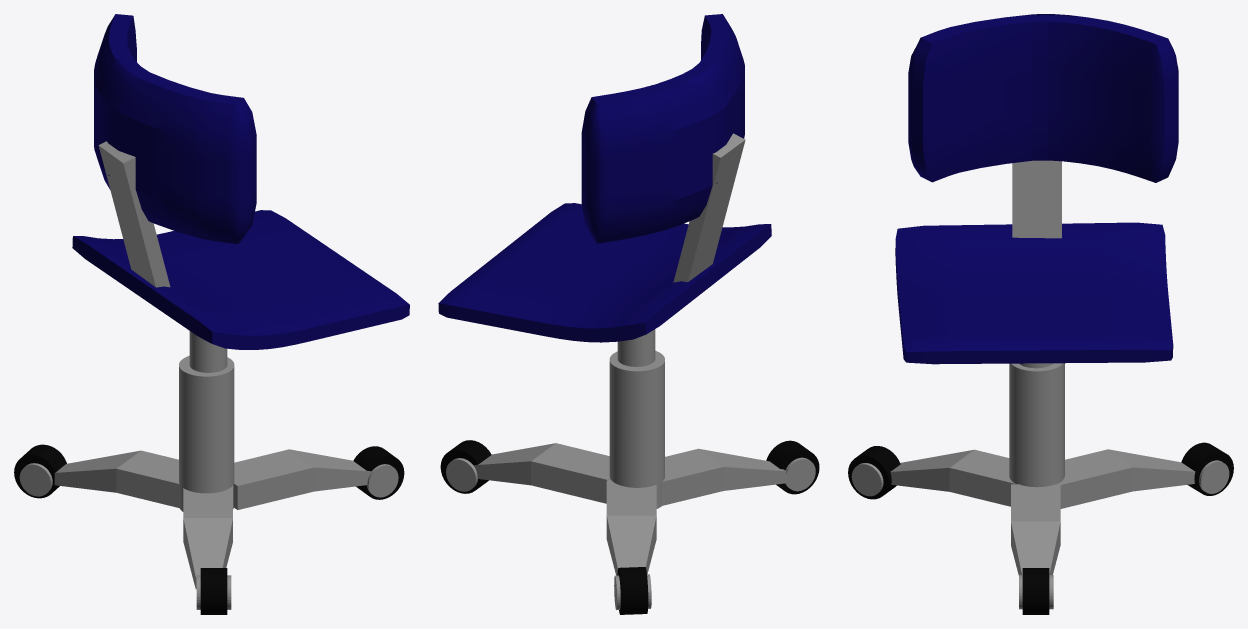
The model's file is rolling chair.fbx.
The picture shows the model from 3 angles, left to right: view 1: azimuth 30°, elevation 25°; view 2: azimuth 150°, elevation 25°; view 3: azimuth 270°, elevation 25°; orthographic projection.
Visible parts, largest first — view 1: Cube, Cube.002, Cylinder, Cube.003, Cube.004, Cube.001, Cube.005, Cylinder.004, Cylinder.003, Cylinder.001, Cylinder.002, Cylinder.006 (+1 smaller); view 2: Cube, Cube.002, Cylinder, Cube.003, Cube.005, Cube.004, Cube.001, Cylinder.003, Cylinder.001, Cylinder.004, Cylinder.002, Cylinder.005 (+1 smaller); view 3: Cube.002, Cube, Cylinder, Cube.004, Cube.005, Cube.003, Cube.001, Cylinder.002, Cylinder.004, Cylinder.003, Cylinder.007, Cylinder.006.
Boxes of the visible parts, box(x1,y1,x2,y2) form: Cube: box(72, 210, 409, 349); Cube.002: box(94, 14, 256, 244); Cylinder: box(179, 355, 234, 511); Cube.003: box(233, 449, 371, 509); Cube.004: box(54, 450, 179, 507); Cube.001: box(98, 141, 170, 287); Cube.005: box(183, 486, 232, 589); Cylinder.004: box(200, 568, 227, 614); Cylinder.003: box(14, 444, 66, 498); Cylinder.001: box(189, 331, 227, 372); Cylinder.002: box(353, 446, 404, 499); Cylinder.006: box(19, 463, 52, 496); Cube: box(438, 203, 771, 342); Cube.002: box(581, 14, 744, 243); Cylinder: box(609, 350, 664, 508); Cube.003: box(474, 443, 610, 503); Cube.005: box(662, 448, 786, 505); Cube.004: box(606, 479, 656, 575); Cube.001: box(673, 133, 745, 282); Cylinder.003: box(617, 567, 648, 614); Cylinder.001: box(617, 329, 655, 366); Cylinder.004: box(766, 440, 819, 494); Cylinder.002: box(440, 440, 491, 493); Cylinder.005: box(446, 458, 477, 491); Cube.002: box(908, 14, 1178, 182); Cube: box(895, 222, 1173, 364); Cylinder: box(1009, 363, 1064, 487); Cube.004: box(1057, 449, 1195, 508); Cube.005: box(890, 449, 1016, 506); Cube.003: box(1011, 484, 1060, 575); Cube.001: box(1012, 160, 1061, 238); Cylinder.002: box(1022, 568, 1049, 614); Cylinder.004: box(848, 446, 900, 499); Cylinder.003: box(1181, 442, 1233, 495); Cylinder.007: box(851, 463, 883, 496); Cylinder.006: box(1199, 460, 1229, 493).
Size of the model in its own units: 450 by 706 by 515.
